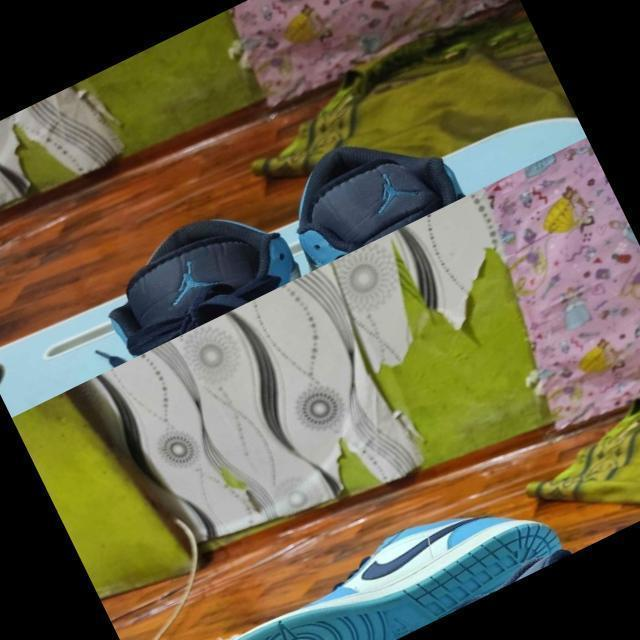nike fake jordan 1: (148, 464, 567, 640)
